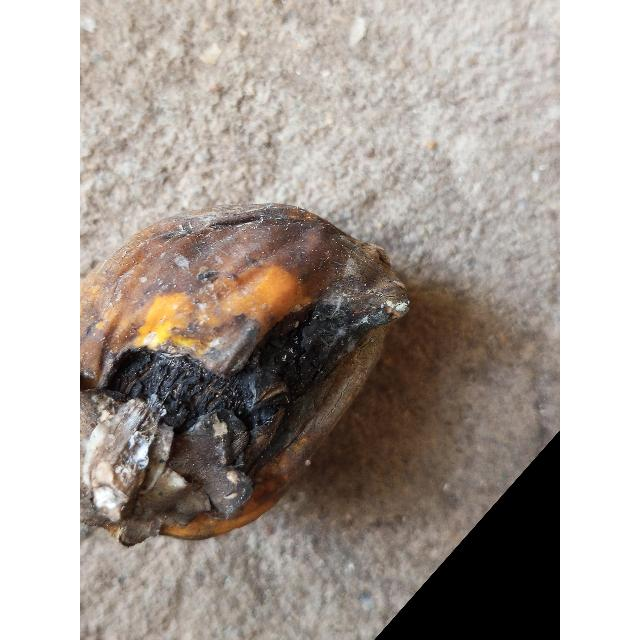damaged: (80, 205, 409, 545)
